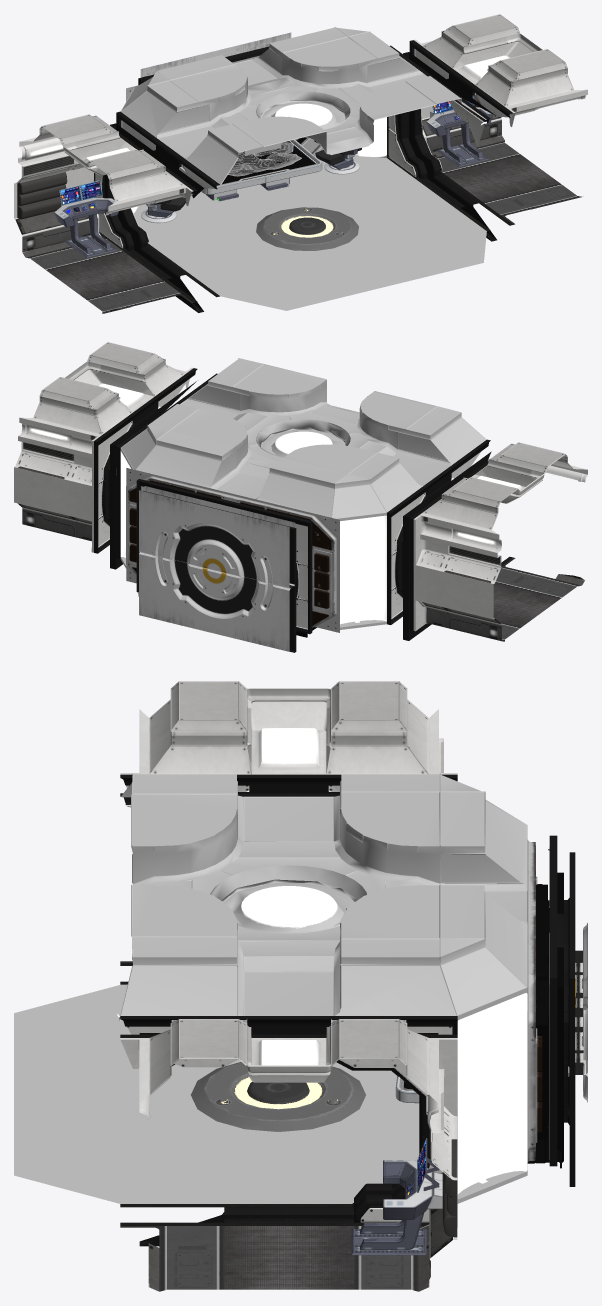
Rendered from HeroSelection.fbx.
3 views of the same model, one above another, from view 1: azimuth 30°, elevation 25°; view 2: azimuth 150°, elevation 25°; view 3: azimuth 270°, elevation 25° (orthographic). The views are drawn at different scales.
Visible parts, largest first — view 1: _mesh_1, _mesh_4, _mesh_2; view 2: _mesh_4, _mesh_1, _mesh_2; view 3: _mesh_4, _mesh_1, _mesh_2.
Part boxes in pixels (box(x1,y1,x2,y2)): _mesh_1: box(14, 41, 582, 313); _mesh_4: box(19, 14, 587, 215); _mesh_2: box(54, 32, 492, 257); _mesh_4: box(19, 342, 587, 543); _mesh_1: box(14, 406, 584, 652); _mesh_2: box(139, 486, 295, 651); _mesh_4: box(117, 681, 530, 1121); _mesh_1: box(14, 738, 575, 1291); _mesh_2: box(191, 923, 587, 1255).
Size of the model in its own units: 1802 by 562 by 1106.
